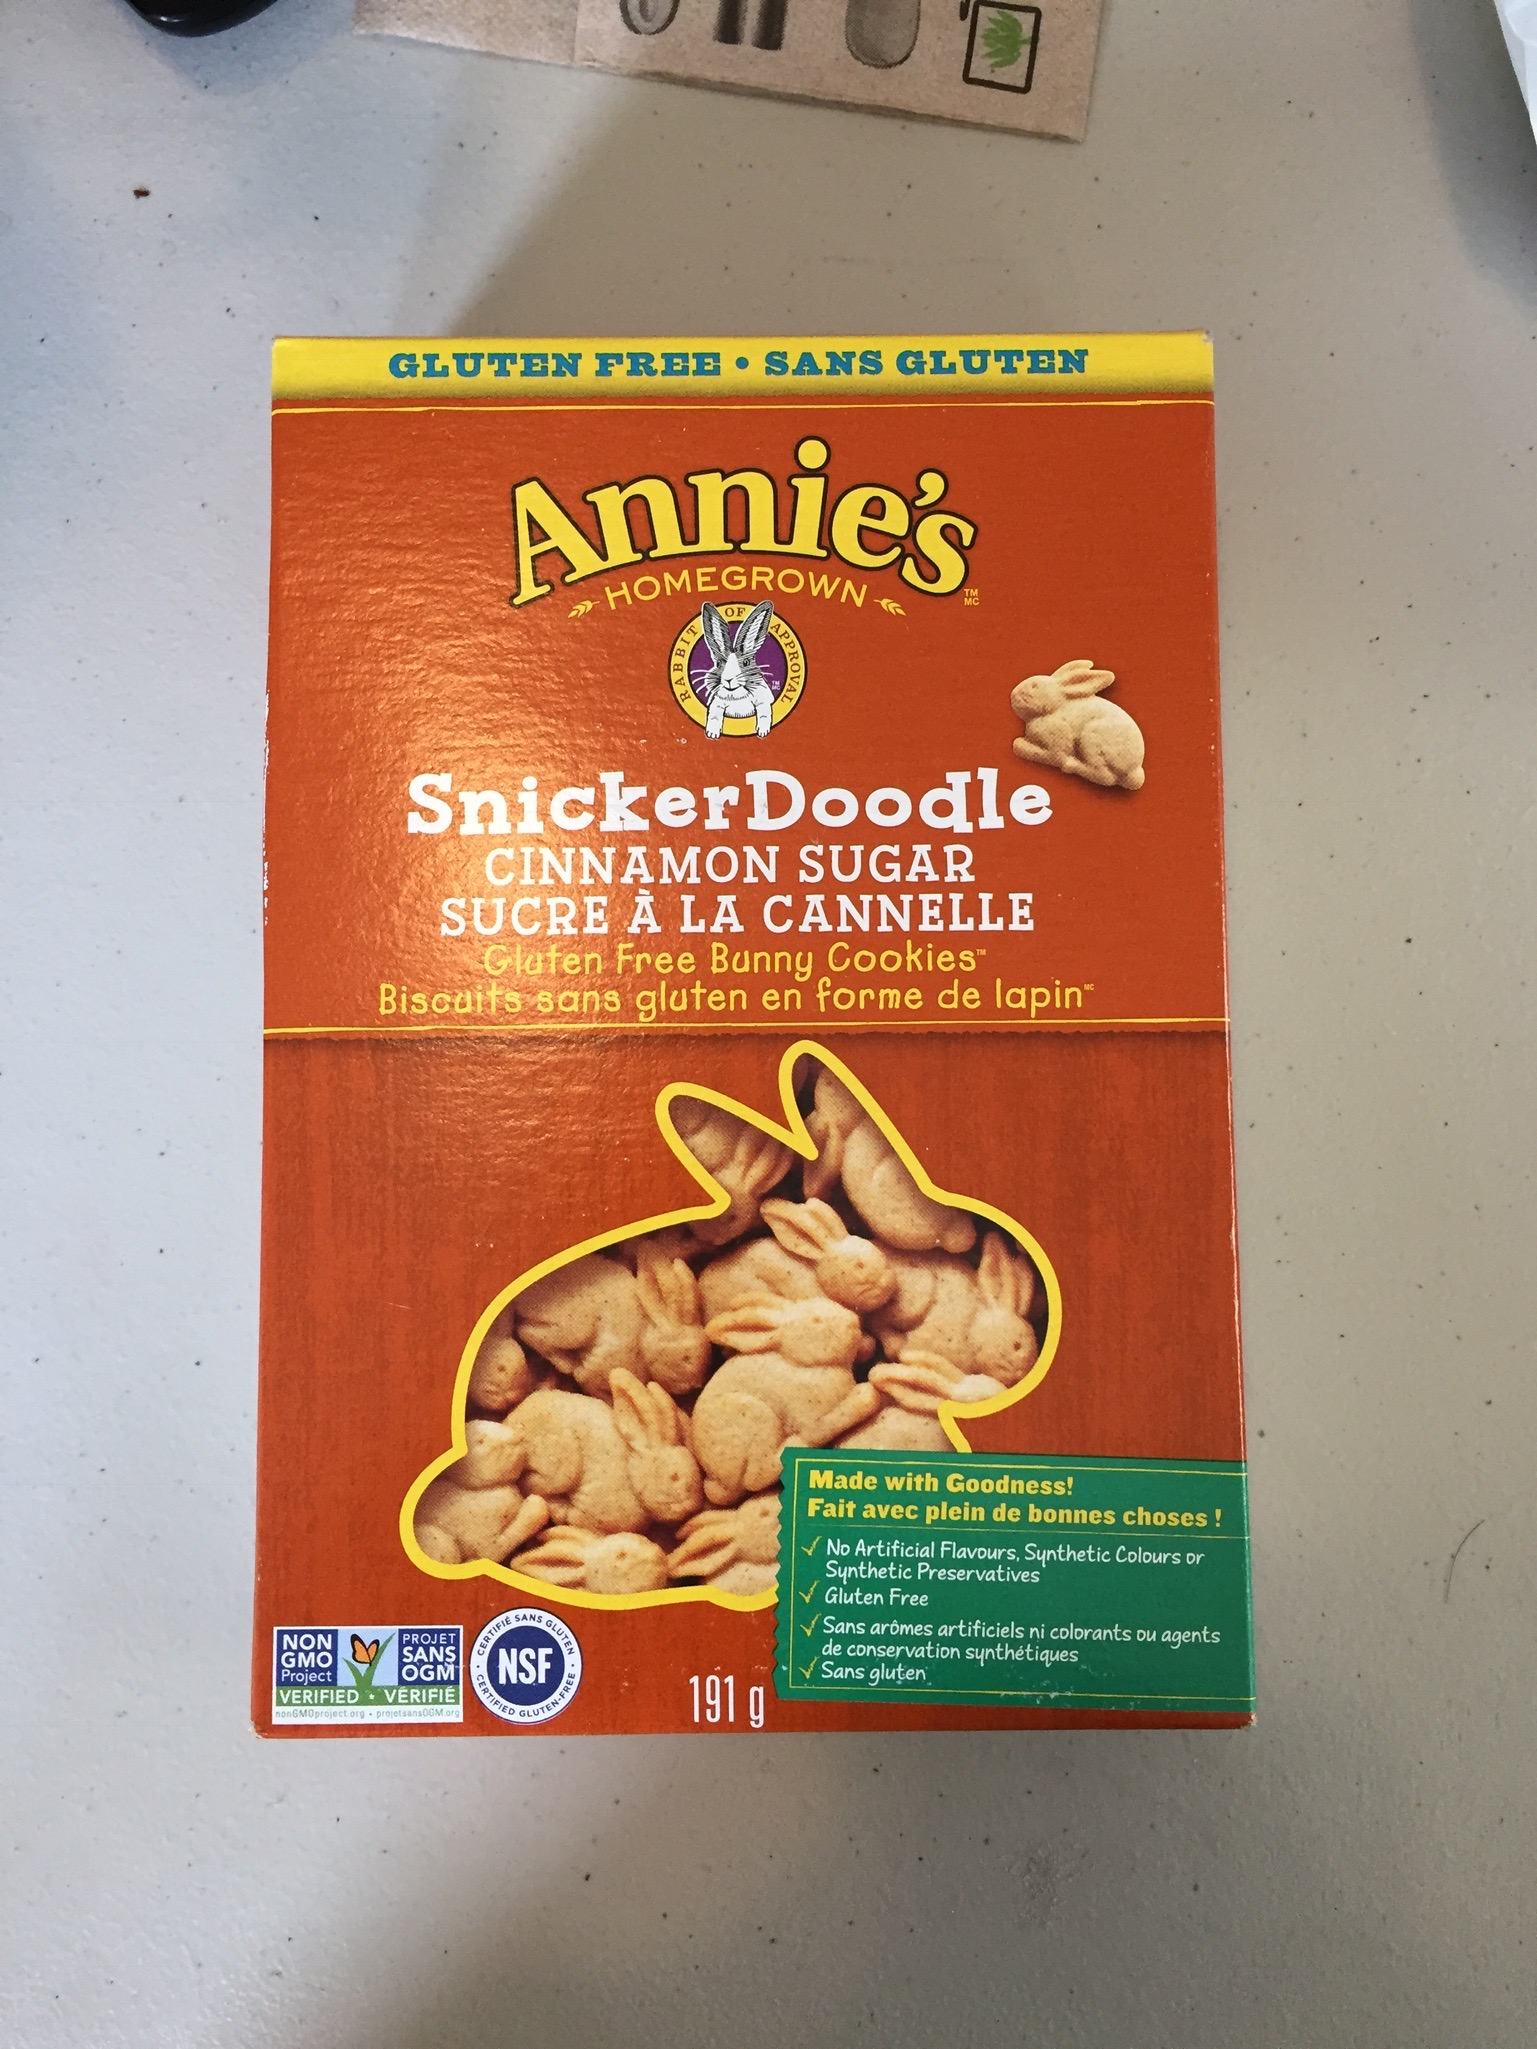annies_snickerdoodles_cinnamon_sugar: (286, 347, 1245, 1723)
